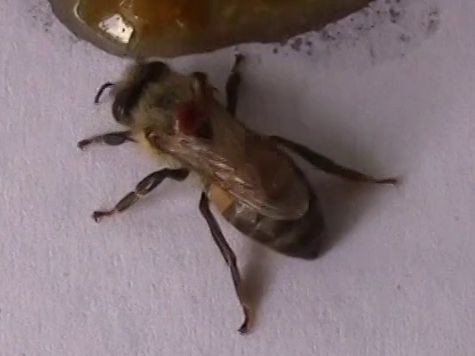Varroa destructor: (167, 102, 209, 139)
